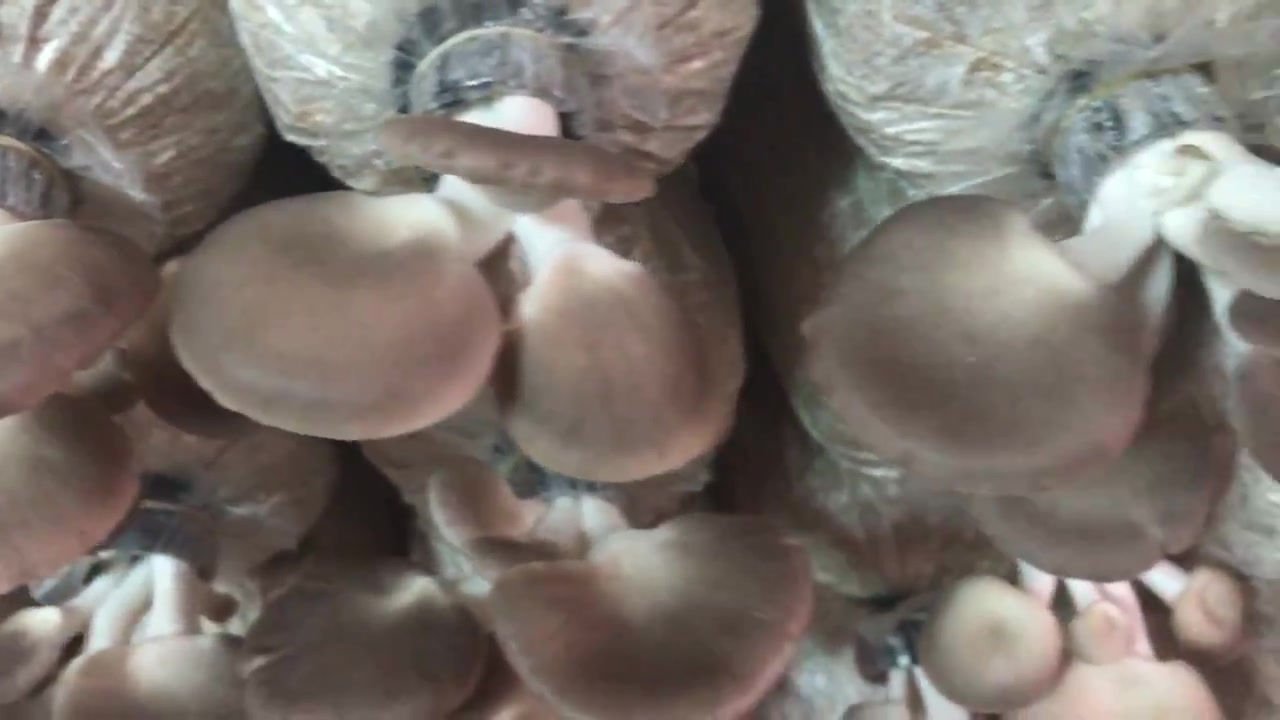nam: (170, 30, 724, 477), (810, 74, 1278, 578), (250, 453, 810, 720), (2, 498, 248, 720)
